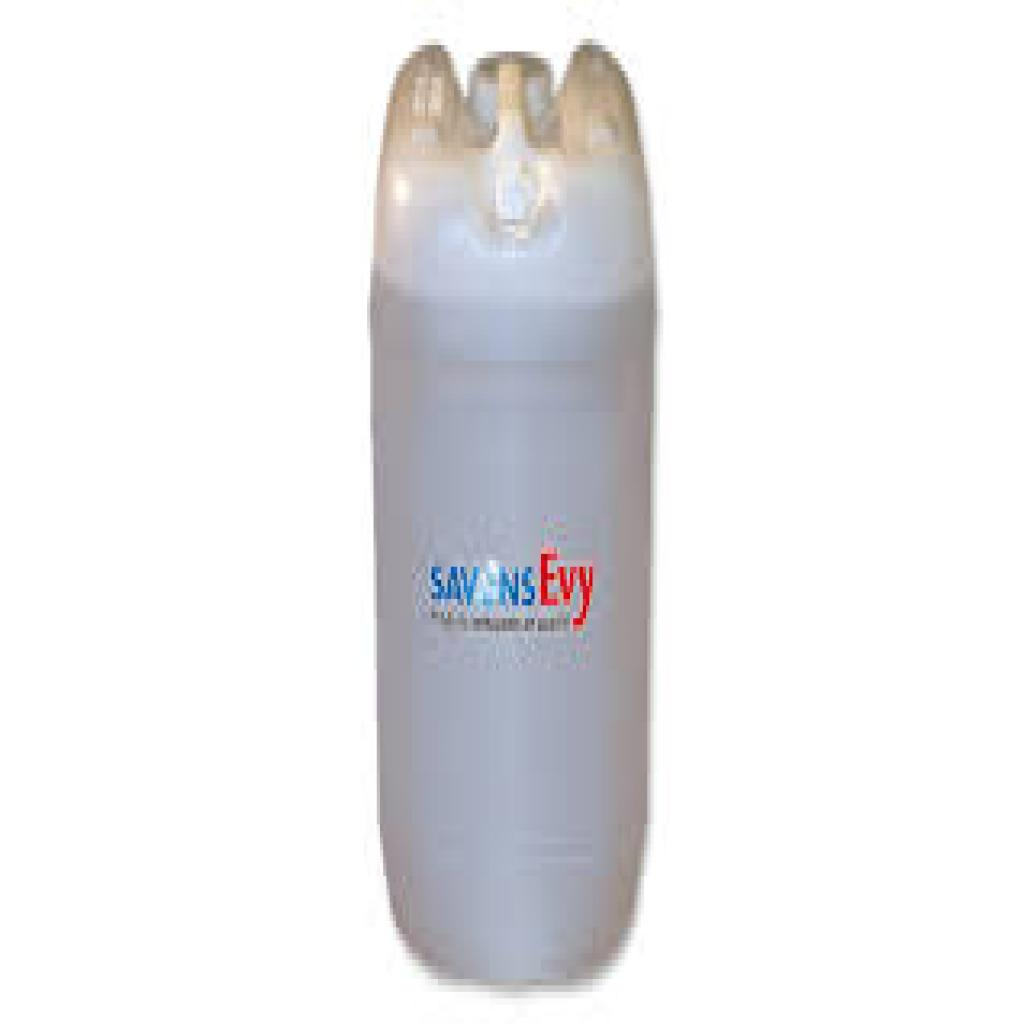organico: (345, 26, 682, 1008)
